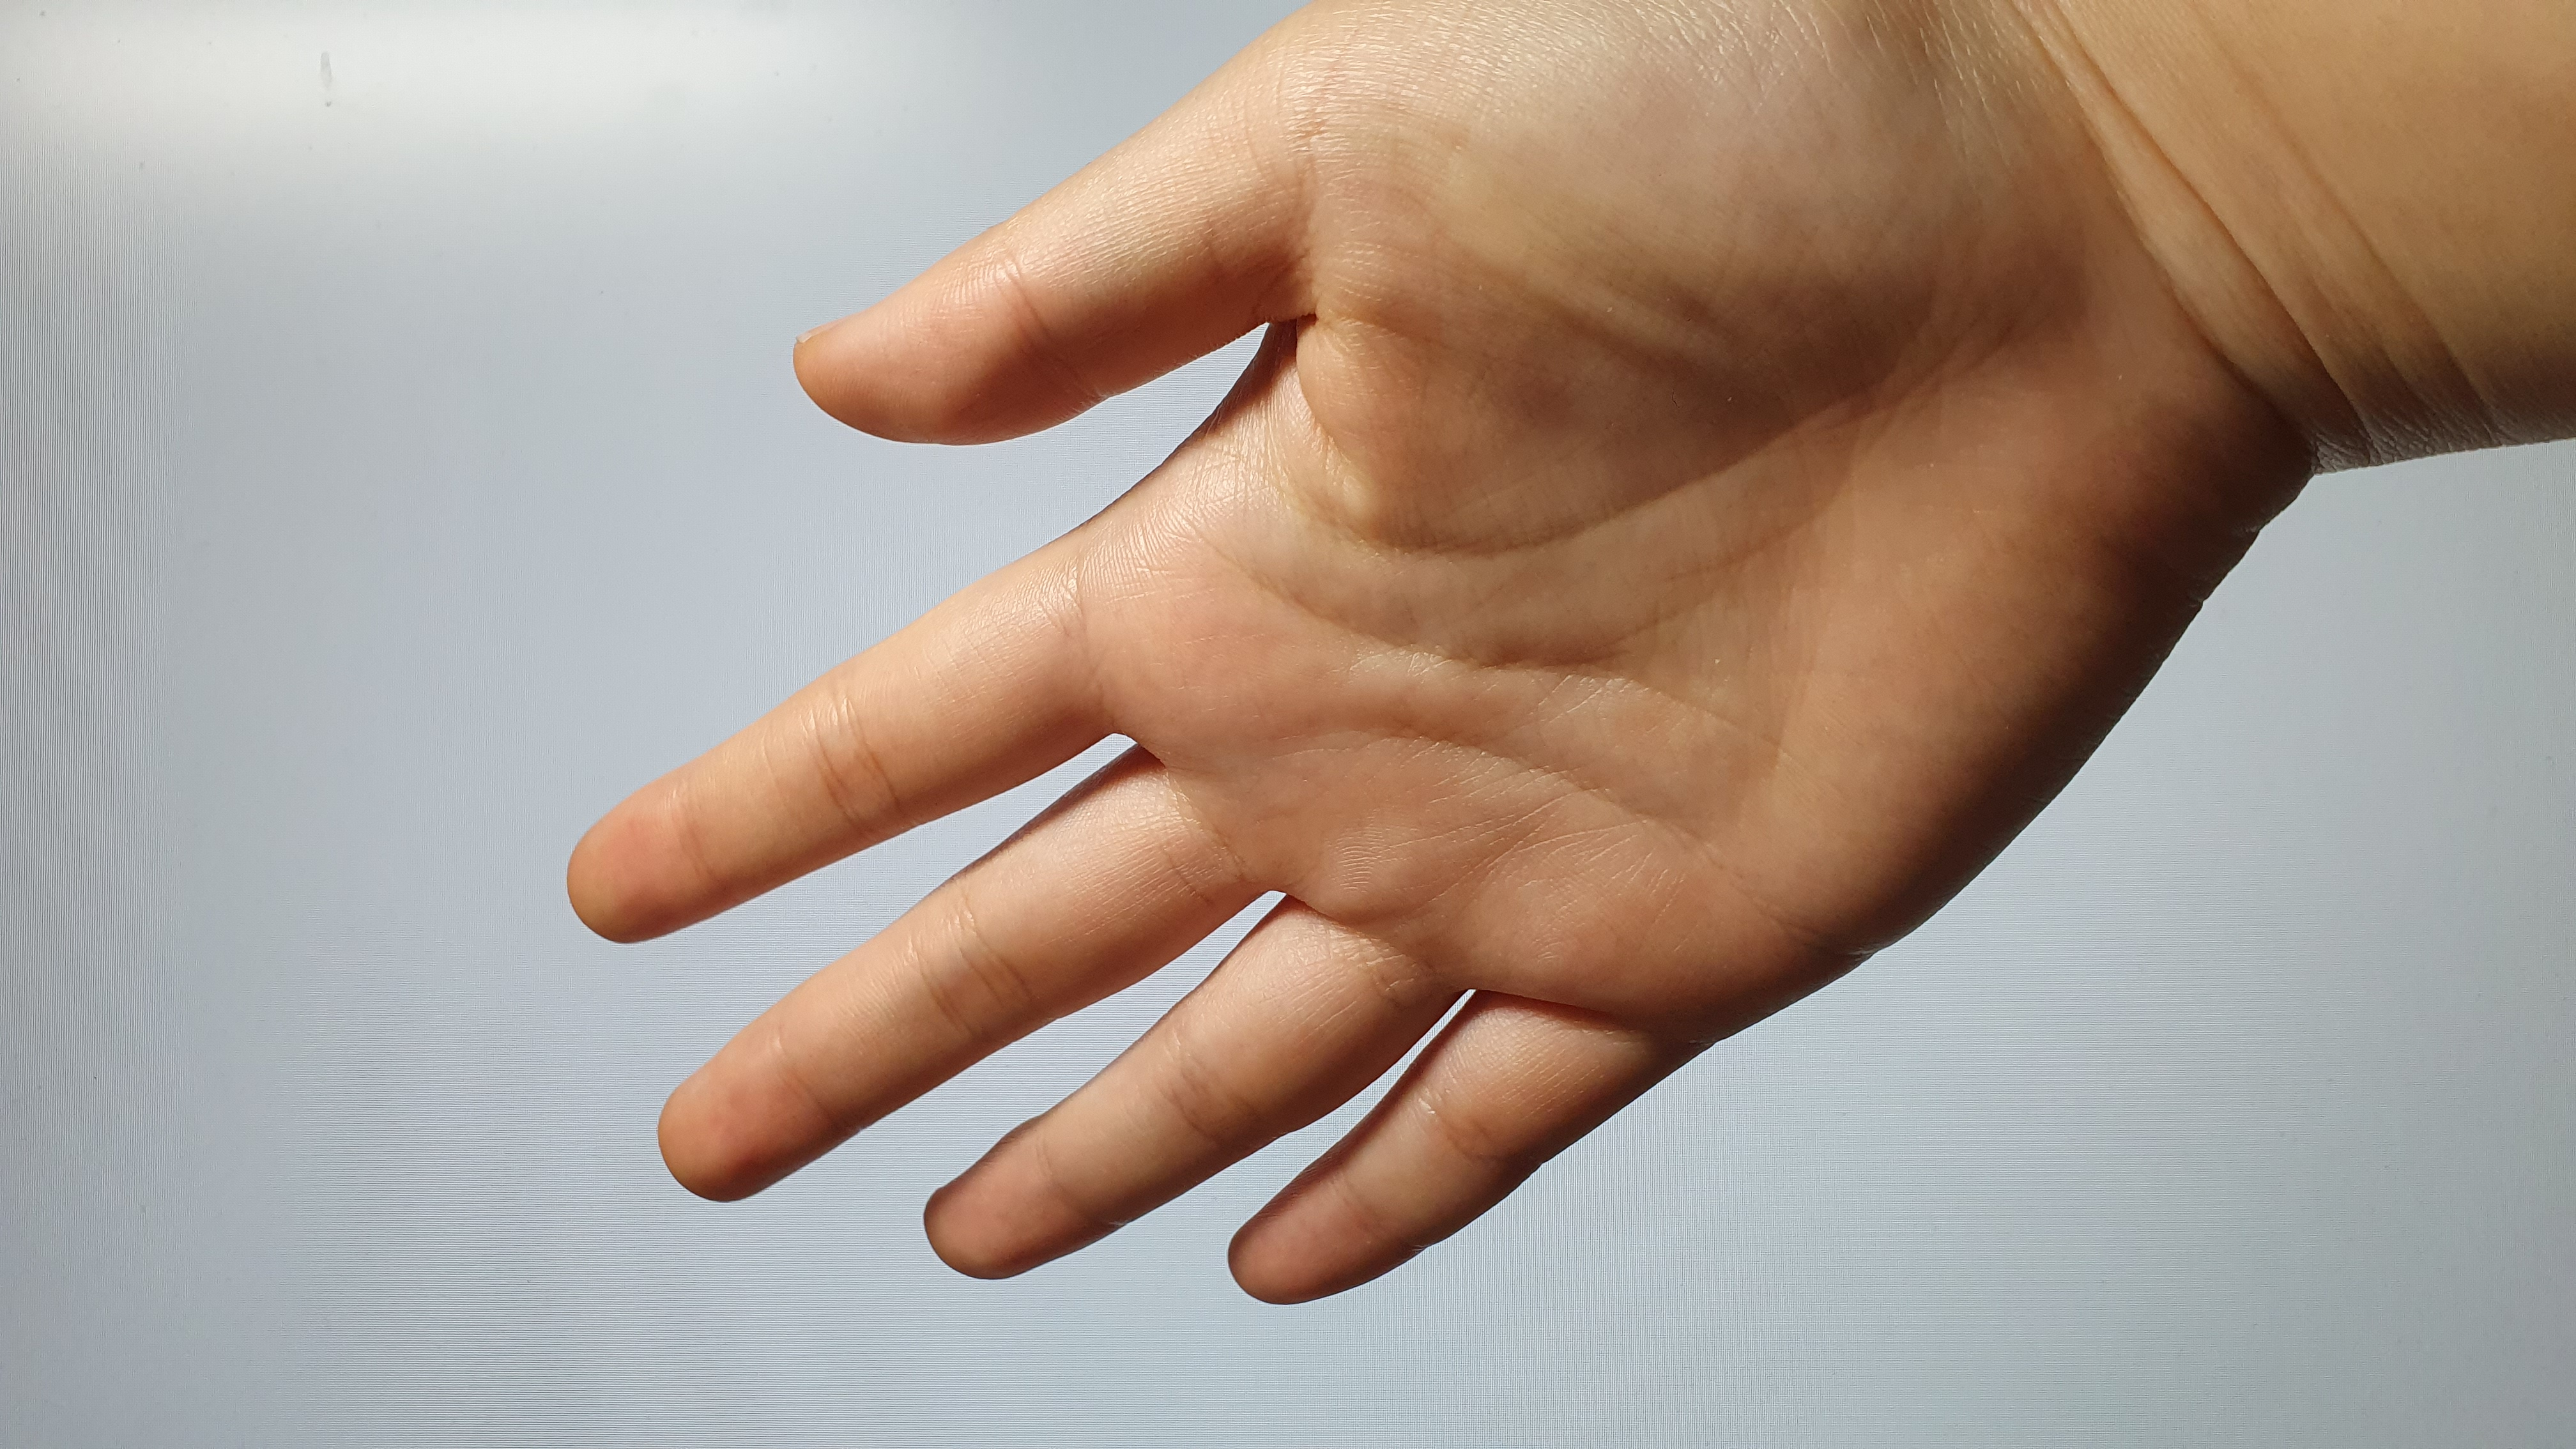hand: (554, 0, 2279, 1313)
index finger: (559, 536, 1129, 948)
middle finger: (648, 771, 1240, 1224)
palm: (1067, 7, 2220, 1012)
pinky: (1223, 996, 1675, 1316)
ring finger: (927, 876, 1454, 1288)
thumb: (787, 46, 1320, 464)
